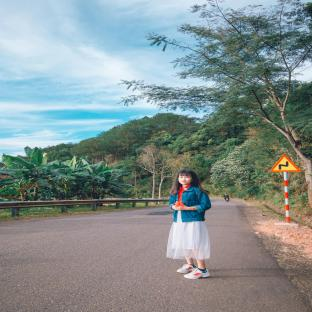Human: (167, 169, 211, 279)
